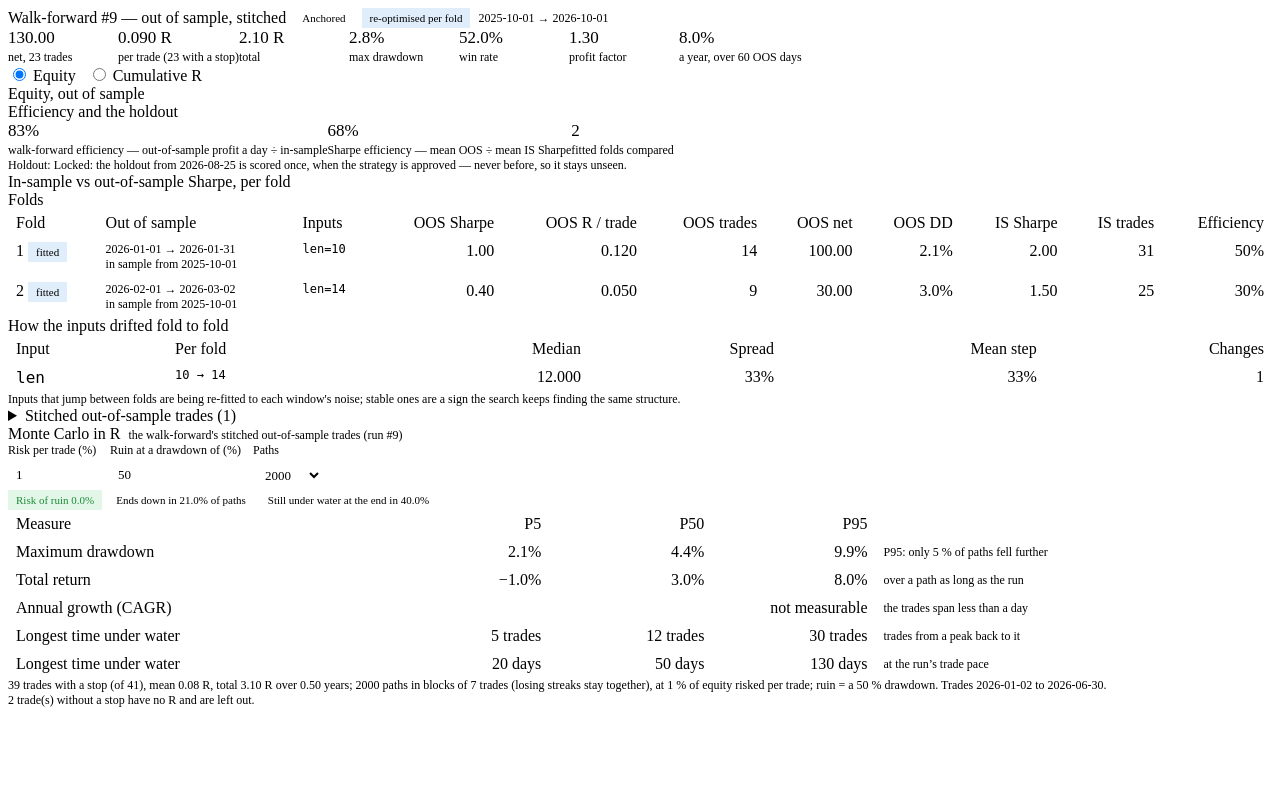
Test: WalkForwardAnalysisComponent (BT-I5, BT-I6) › switches the curve to cumulative R
Click the radio button named "wfa-mode" at [99, 74], box [93,68,106,81]
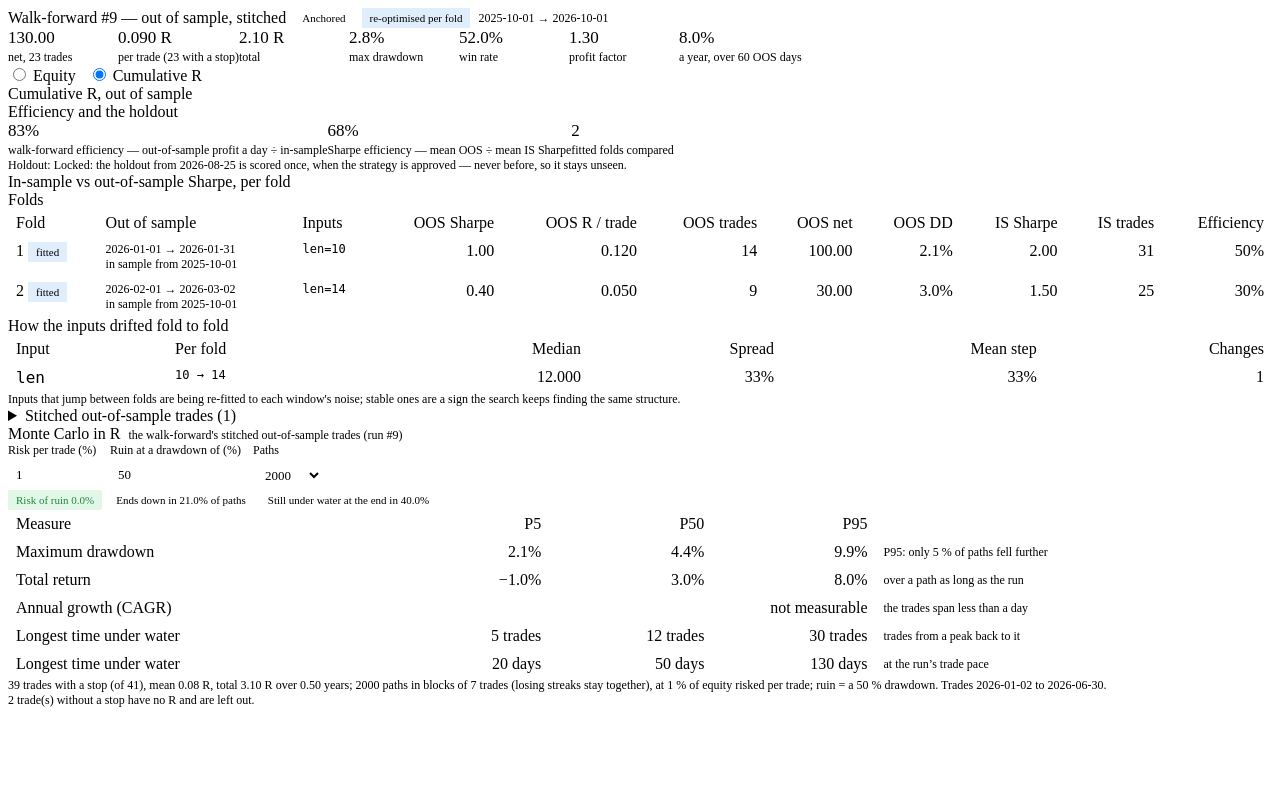
Expected: the text with class "chart-stub" reads "Cumulative R, out of sample", [8,85,192,102]
